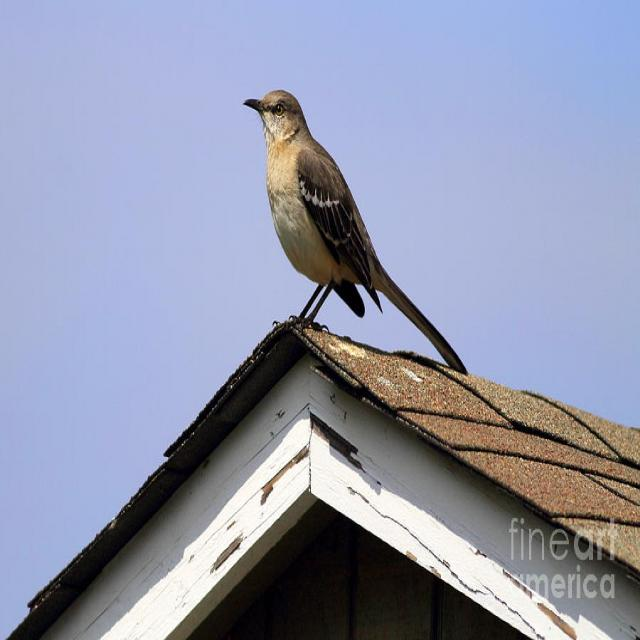bird: (241, 88, 468, 376)
